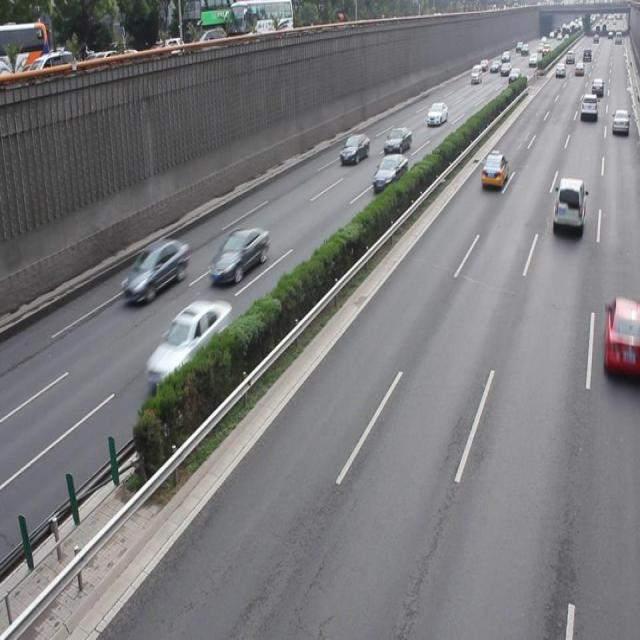car: (144, 297, 232, 386), (122, 236, 188, 303), (208, 226, 270, 286), (601, 294, 640, 376), (552, 176, 584, 235), (372, 152, 408, 191), (481, 153, 508, 190), (340, 134, 369, 165)
